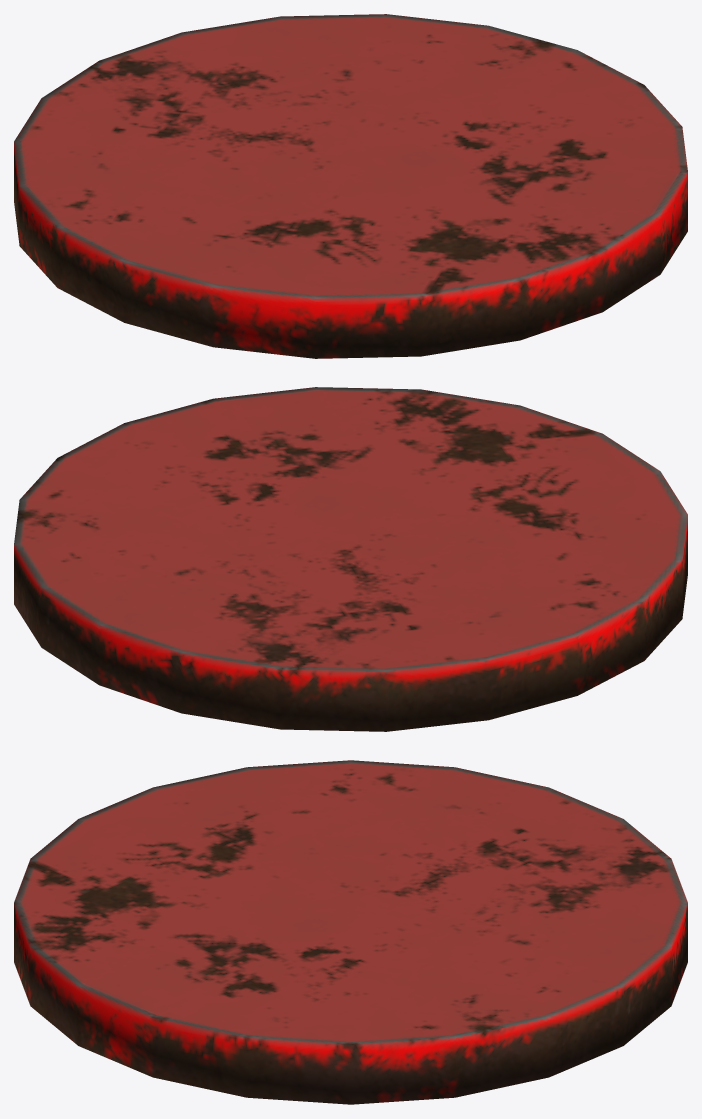
File: MineBotton.fbx
3 renders of one model, top to bottom at view 1: azimuth 30°, elevation 25°; view 2: azimuth 150°, elevation 25°; view 3: azimuth 270°, elevation 25°, orthographic.
Visible parts, largest first — view 1: Mine_Lp.001; view 2: Mine_Lp.001; view 3: Mine_Lp.001.
Boxes of the visible parts, box(x1,y1,x2,y2) form: Mine_Lp.001: box(14, 14, 687, 358); Mine_Lp.001: box(14, 387, 687, 731); Mine_Lp.001: box(14, 760, 687, 1104).
Size of the model in its own units: 87.42 by 8.53 by 87.42.
